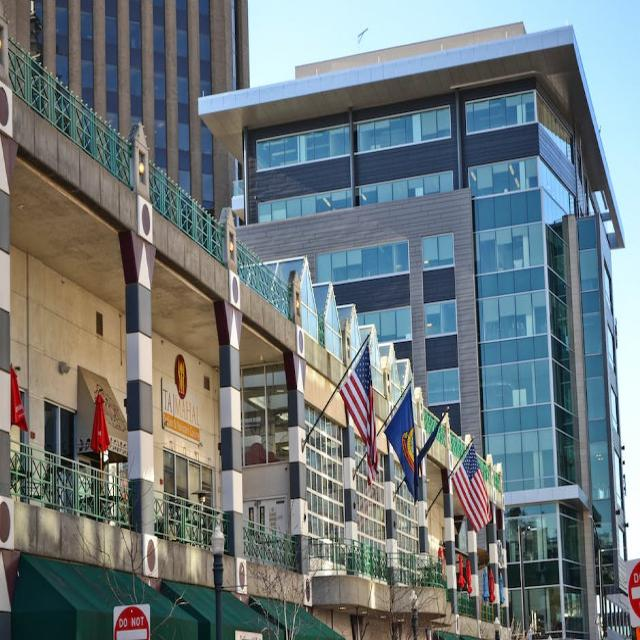no entry: (114, 604, 150, 640), (627, 560, 640, 627)
